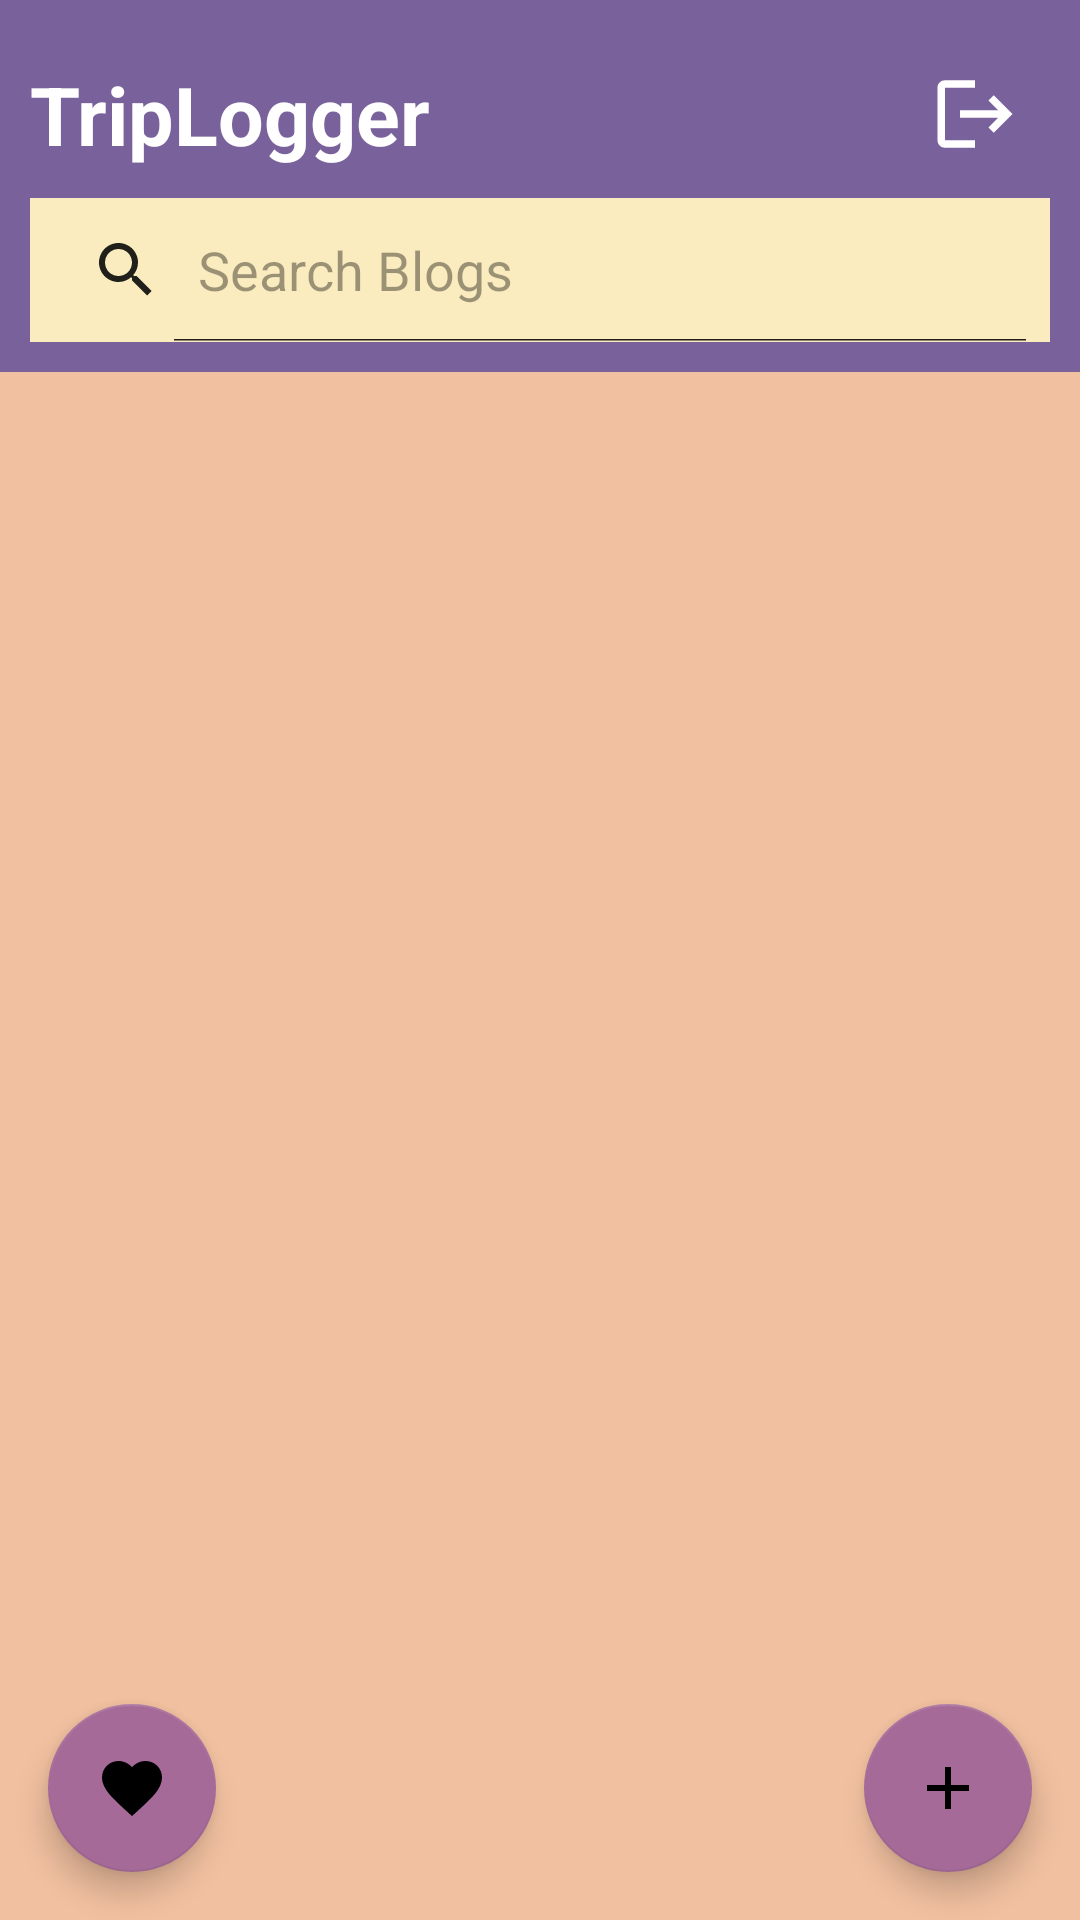

Point at icon controls on the screen. Image size 1080*1920, points as [x,y].
Add Property: [948,1788]
Favorites: [132,1788]
